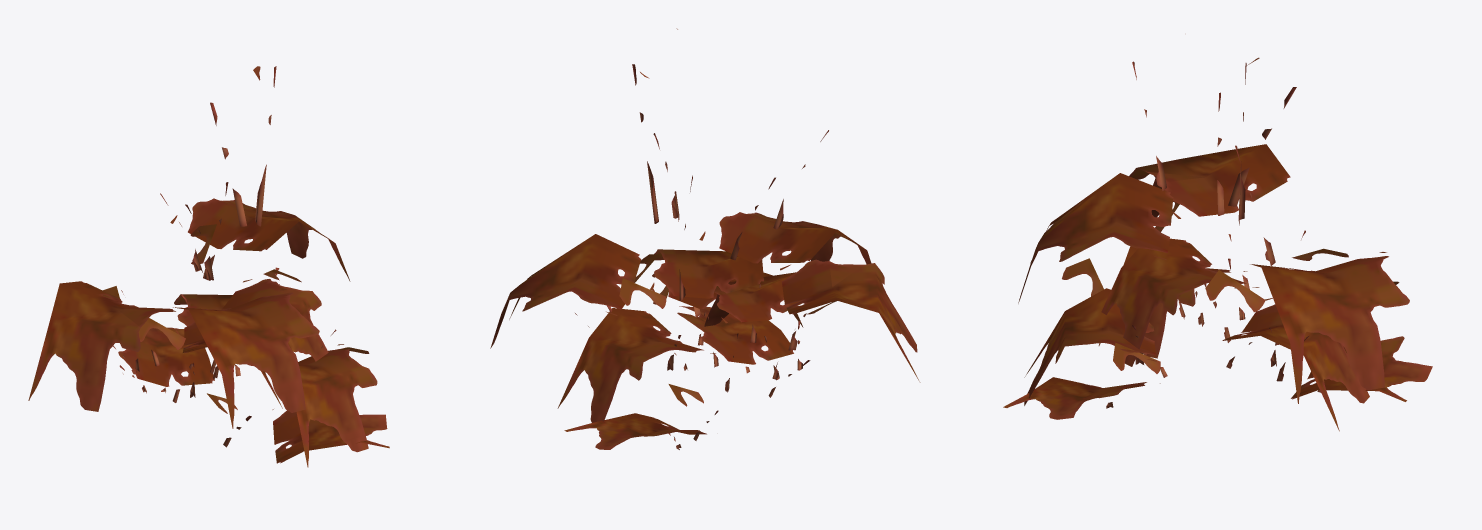
Rendered from City_bujian_44.fbx.
3 views of the same model, side by side, from view 1: azimuth 30°, elevation 25°; view 2: azimuth 150°, elevation 25°; view 3: azimuth 270°, elevation 25° (orthographic). The views are drawn at different scales.
Parts seen in each view (by area): view 1: pasted__Mesh_0263; view 2: pasted__Mesh_0263; view 3: pasted__Mesh_0263.
Boxes of the visible parts, <box> form: pasted__Mesh_0263: <box>28,66,389,467</box>; pasted__Mesh_0263: <box>490,28,920,449</box>; pasted__Mesh_0263: <box>1003,57,1432,431</box>.
Size of the model in its own units: 1.2 by 1.24 by 1.26.
